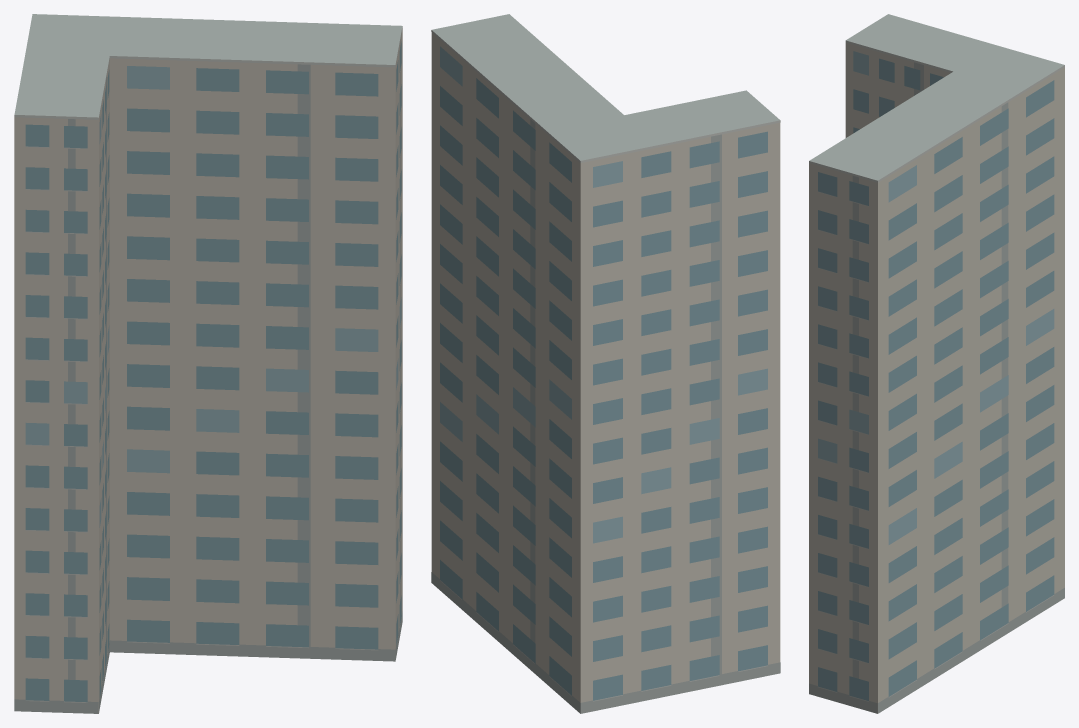
The model's file is residential-541f36fb-03f3-4d8b-862b-f42aa0b31046.glb.
The picture shows the model from 3 angles, left to right: view 1: azimuth 30°, elevation 25°; view 2: azimuth 150°, elevation 25°; view 3: azimuth 270°, elevation 25°; orthographic projection. The views are drawn at different scales.
Visible parts, largest first — view 1: residential-541f36fb-03f3-4d8b-862b-f42aa0b31046.tmp; view 2: residential-541f36fb-03f3-4d8b-862b-f42aa0b31046.tmp; view 3: residential-541f36fb-03f3-4d8b-862b-f42aa0b31046.tmp.
Part boxes in pixels (bbox=[...]): residential-541f36fb-03f3-4d8b-862b-f42aa0b31046.tmp: bbox=[14, 14, 402, 713]; residential-541f36fb-03f3-4d8b-862b-f42aa0b31046.tmp: bbox=[431, 14, 780, 713]; residential-541f36fb-03f3-4d8b-862b-f42aa0b31046.tmp: bbox=[809, 14, 1064, 713].
Bounding box in the file's own units: 40.25 × 60 × 26.1.
